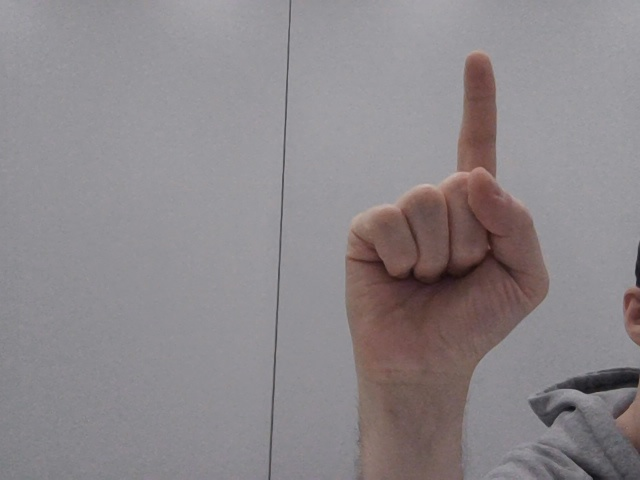up: (329, 41, 566, 410)
